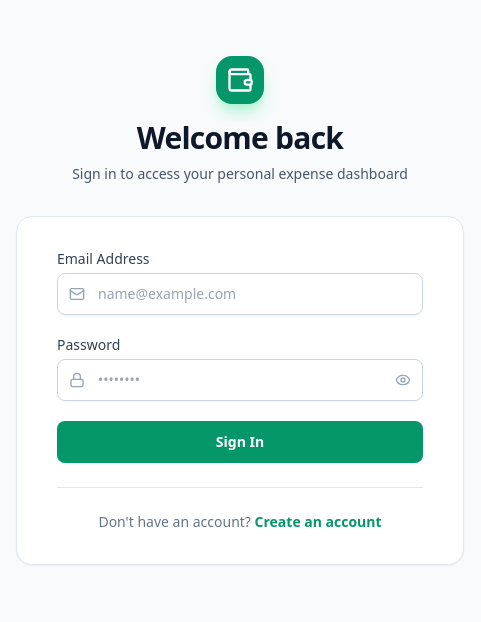
Authentication Components › LoginForm › shows error if submitted with empty fields
This screenshot has width=481, height=622.
Click the button "Sign In".
click(240, 442)  # box top-left (57, 420), bottom-right (423, 462)
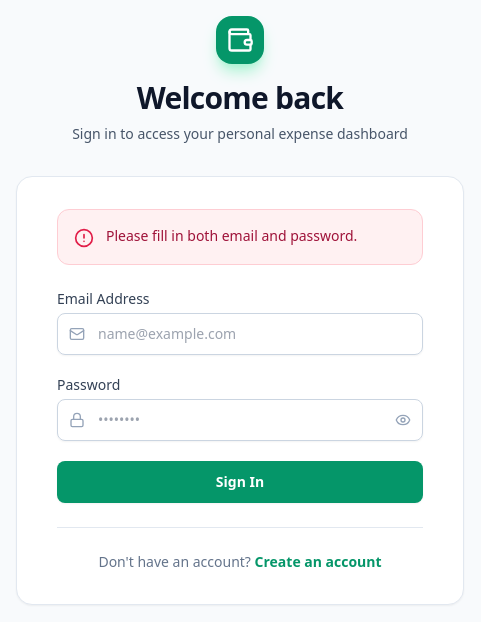
expect the text "Please fill in both email and password." is shown: met, box top-left (106, 226), bottom-right (357, 246)
